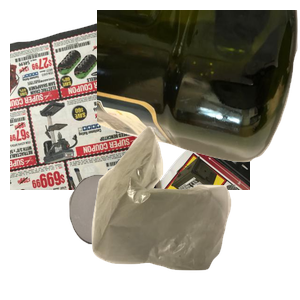glass: (67, 172, 229, 300)
paper: (10, 15, 250, 195)
plastic: (97, 10, 300, 165)
trash: (89, 124, 300, 300)
